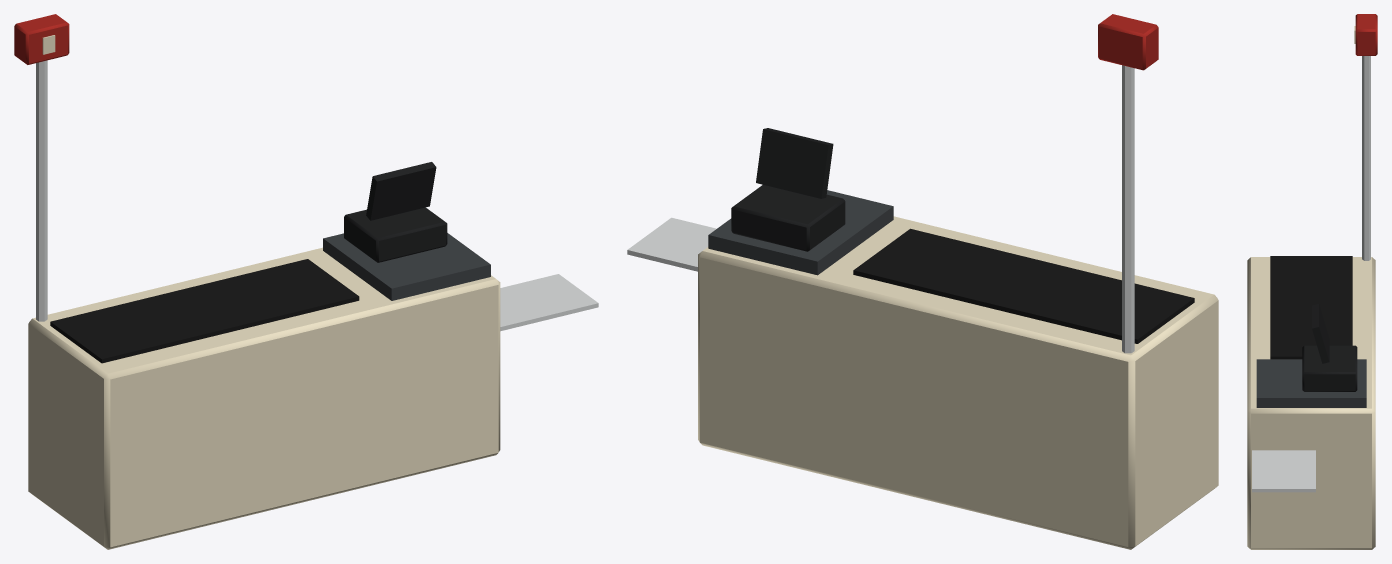
The model's file is checkout_lane.glb.
The picture shows the model from 3 angles, left to right: view 1: azimuth 30°, elevation 25°; view 2: azimuth 150°, elevation 25°; view 3: azimuth 270°, elevation 25°; orthographic projection. The views are drawn at different scales.
Visible parts, largest first — view 1: CheckoutLane; view 2: CheckoutLane; view 3: CheckoutLane.
Part boxes in pixels (x1,y1,x2,y2): CheckoutLane: (14,14,598,549); CheckoutLane: (627,14,1218,549); CheckoutLane: (1247,14,1377,549).
Bounding box in the file's own units: 2.56 × 2.28 × 0.71.
